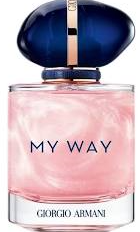armani_my_way_floral: (5, 1, 135, 229)
